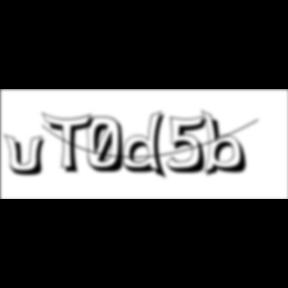0: (88, 115, 132, 174)
5: (166, 114, 212, 176)
T: (42, 112, 100, 176)
b: (200, 109, 253, 179)
d: (122, 110, 172, 182)
u: (4, 132, 52, 178)
